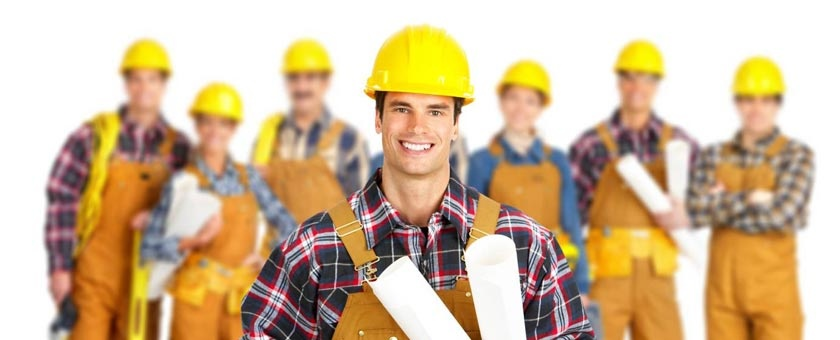yellow: (368, 24, 471, 171), (494, 61, 554, 129), (282, 36, 335, 111), (732, 54, 783, 127), (611, 38, 662, 109), (121, 41, 171, 107), (191, 83, 242, 147)
